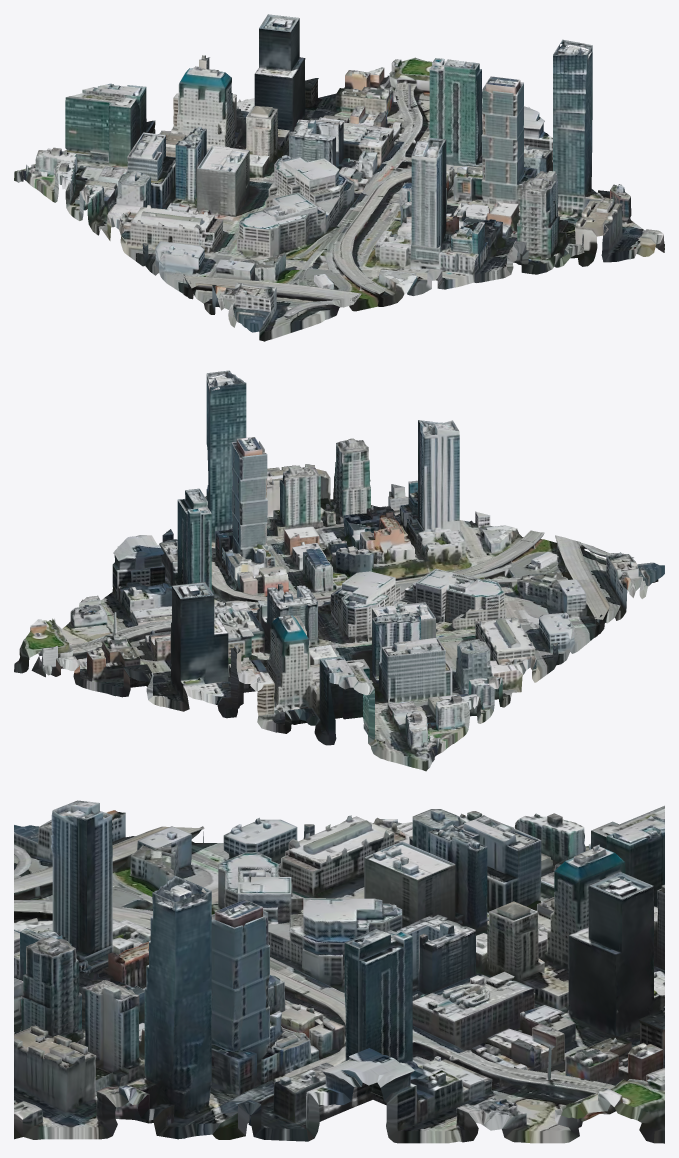
The model's file is z16-10486-25328-h0-yup-uvflip-v3-world.glb.
3 views of the same model, one above another, from view 1: azimuth 30°, elevation 25°; view 2: azimuth 150°, elevation 25°; view 3: azimuth 270°, elevation 25° (orthographic). The views are drawn at different scales.
Bounding box in the file's own units: 484 × 191 × 485.
Materials: 1 (1 with a texture image).
